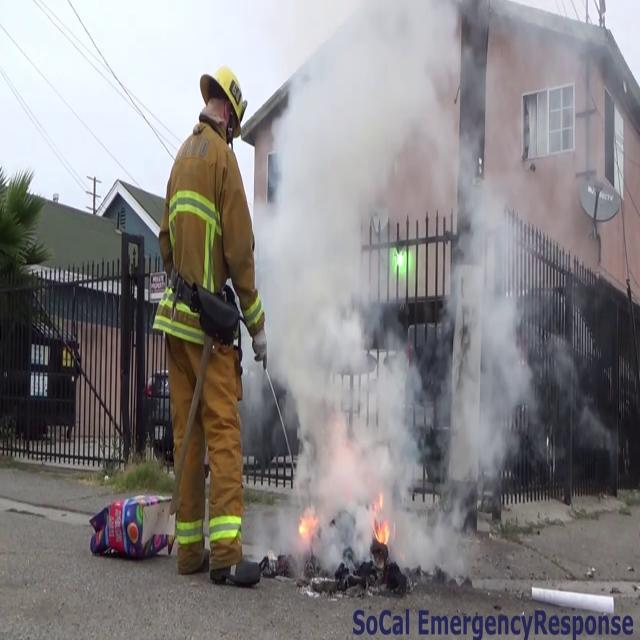Smoke: (247, 1, 539, 566)
